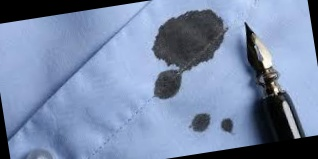ink: (149, 6, 231, 71), (152, 70, 184, 101), (189, 113, 211, 133), (221, 117, 235, 133)
